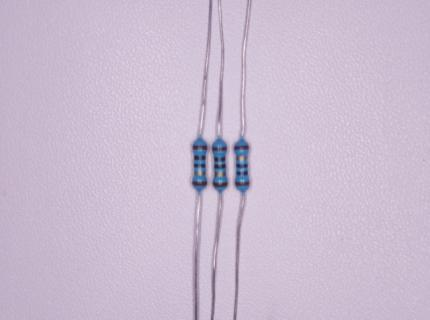Black band: (236, 164, 248, 168), (194, 163, 205, 167), (194, 156, 205, 160), (214, 157, 225, 161), (215, 165, 226, 169), (237, 171, 248, 175)
Brown band: (192, 181, 207, 186), (193, 145, 207, 150), (234, 145, 248, 150), (236, 181, 249, 186), (212, 147, 226, 151), (213, 182, 227, 186)
Gold band: (236, 155, 247, 160), (214, 172, 225, 176), (194, 171, 205, 175)
